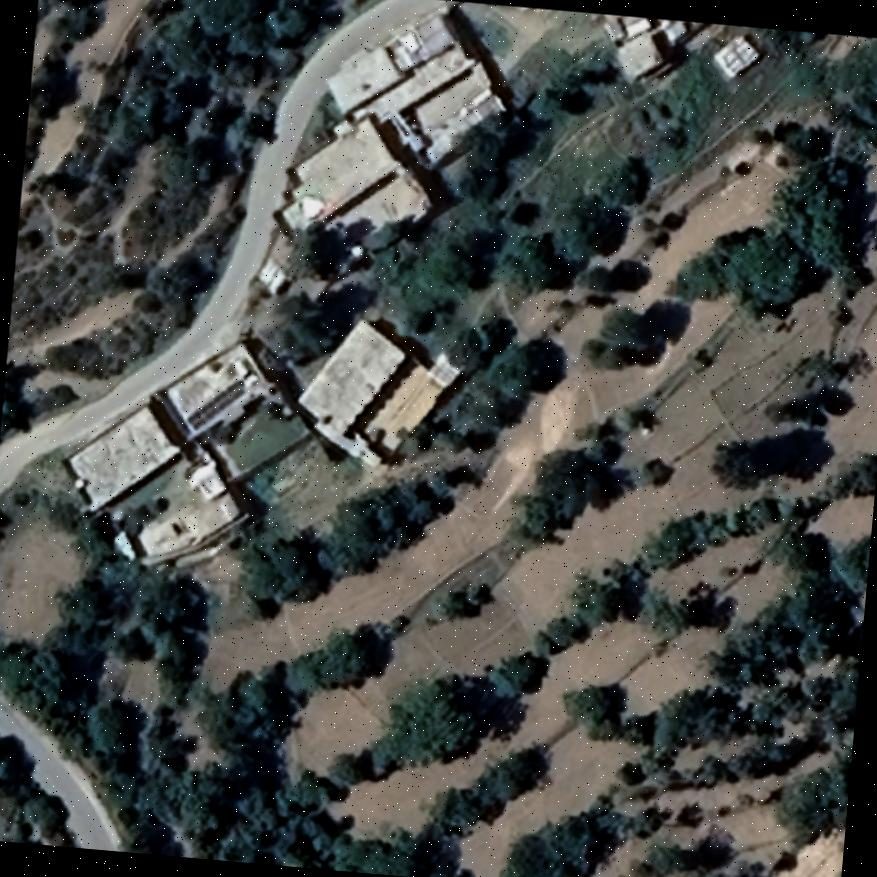Solarpanel: (183, 372, 249, 430)
